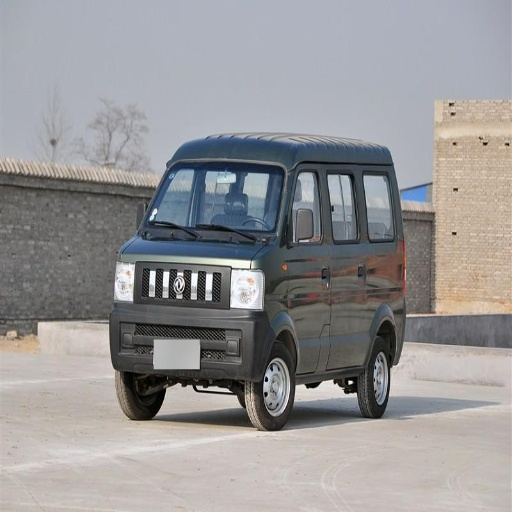front_bumper: (114, 260, 260, 379)
front_glass: (142, 164, 233, 237)
front_left_door: (302, 325, 333, 370)
trunk: (300, 244, 410, 364)
